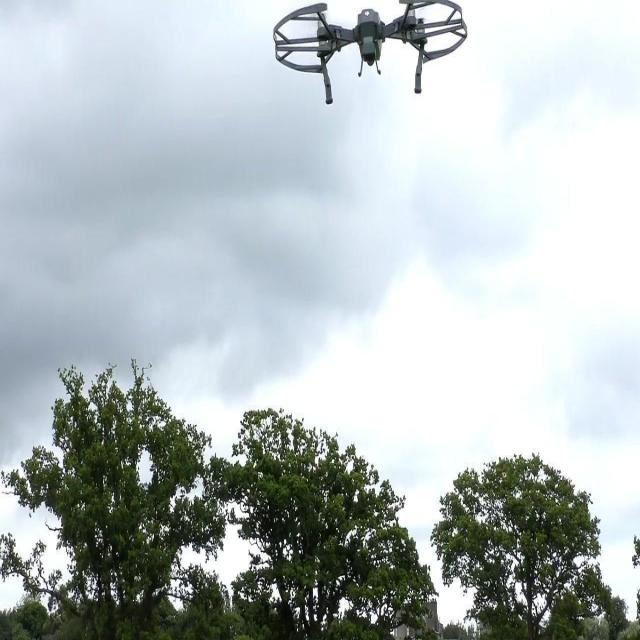drone: (265, 0, 468, 109)
